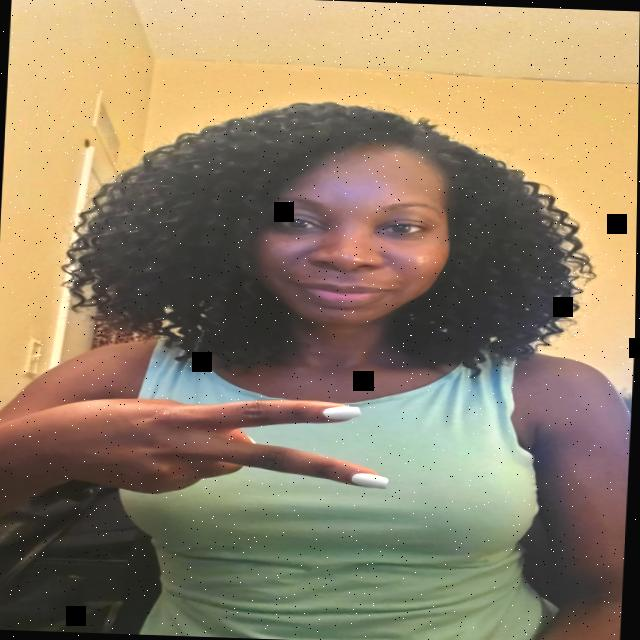Scissors: (15, 384, 404, 523)
